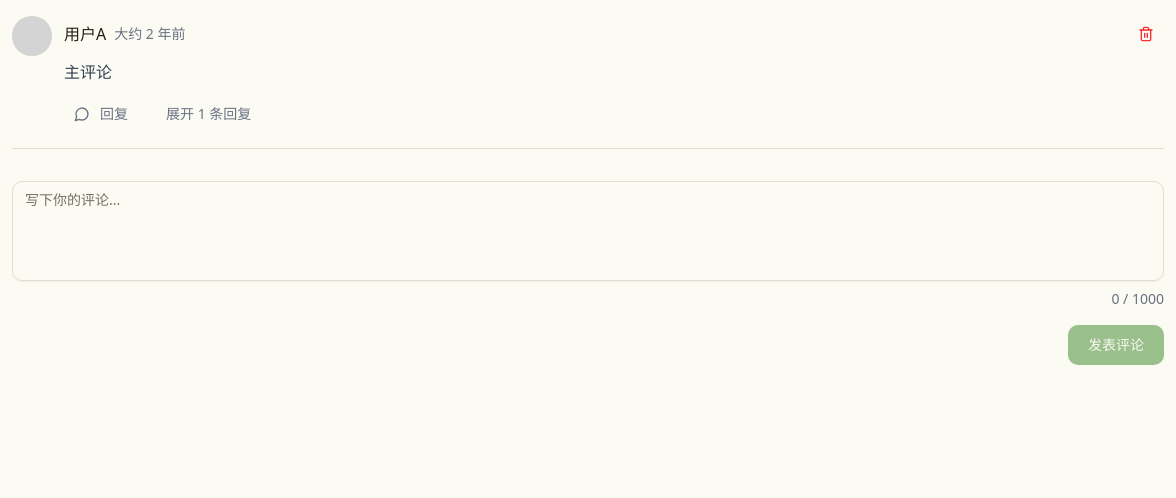
动态评论功能测试 › 评论展开/收起功能 › 应该支持展开和收起回复
Expected: the text "这是一条回复" is not shown
Click the button "展开 1 条回复". click: (209, 114)
box: [154,96,263,132]
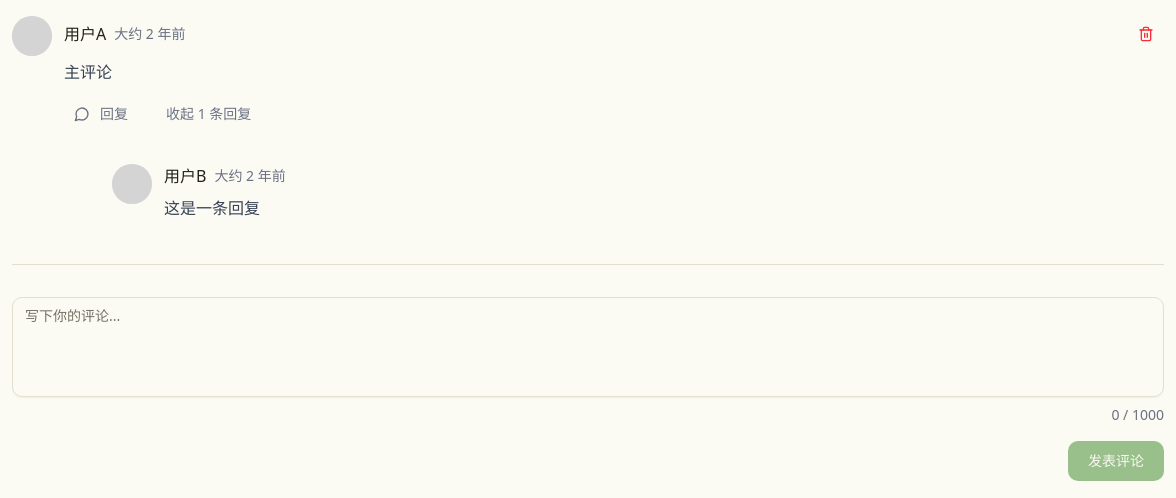
Now the text "这是一条回复" is shown, box [164,197,260,219]
Now the button "收起 1 条回复" is shown
Click the button "收起 1 条回复". click: (209, 114)
box: [154,96,263,132]
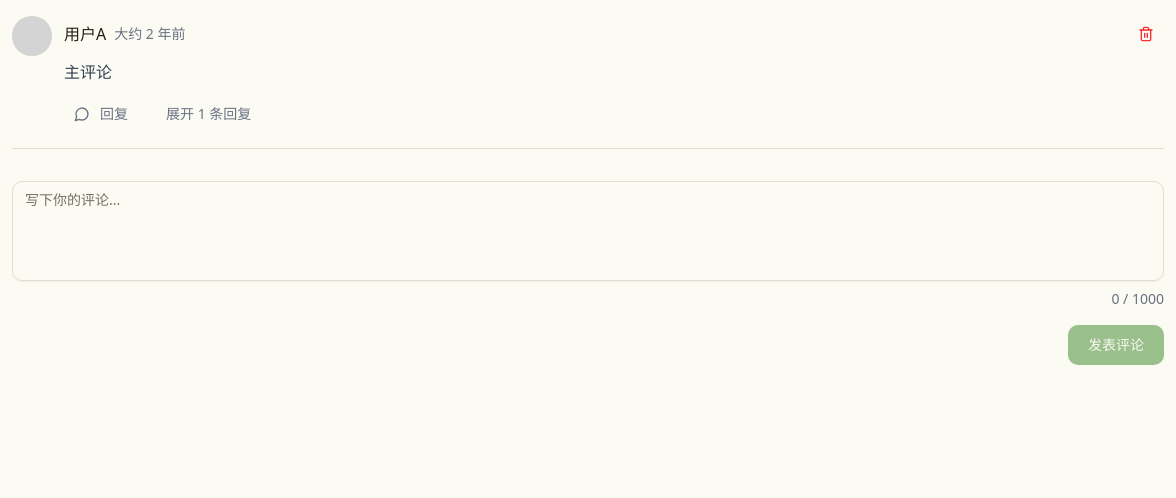
Now the text "这是一条回复" is gone
